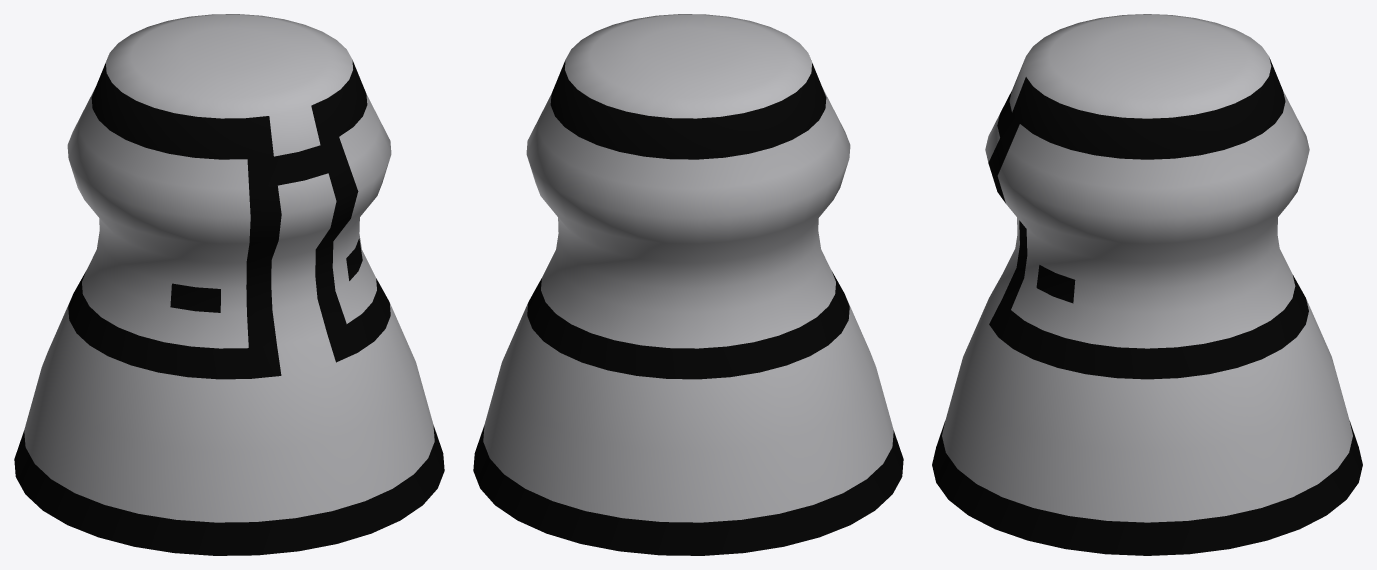
Rendered from body.gltf.
3 renders of one model, left to right at view 1: azimuth 30°, elevation 25°; view 2: azimuth 150°, elevation 25°; view 3: azimuth 270°, elevation 25°, orthographic.
Parts seen in each view (by area): view 1: Sphere.062; view 2: Sphere.062; view 3: Sphere.062.
Part boxes in pixels (box(x1,y1,x2,y2)): Sphere.062: box(14, 14, 444, 555); Sphere.062: box(473, 14, 903, 555); Sphere.062: box(932, 14, 1362, 555).
Bounding box in the file's own units: 0.3694 × 0.3939 × 0.3694.
2 materials, 2 textured.
